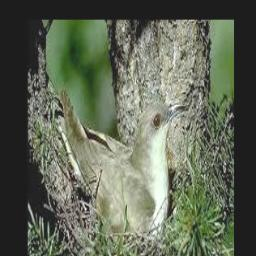Cuckoo: (62, 88, 190, 240)
